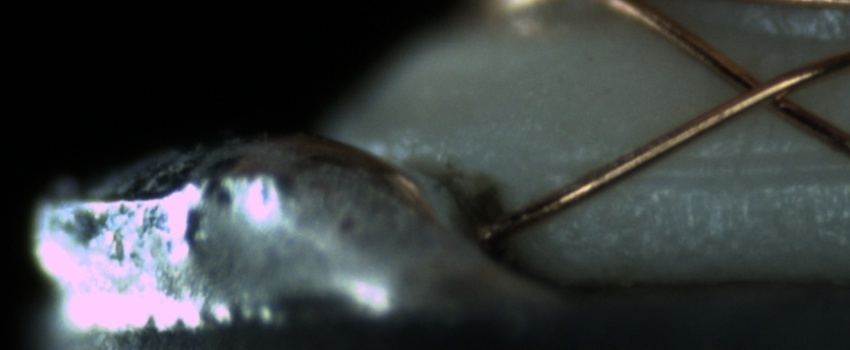CL: (714, 58, 814, 120)
DL: (567, 132, 849, 200)
